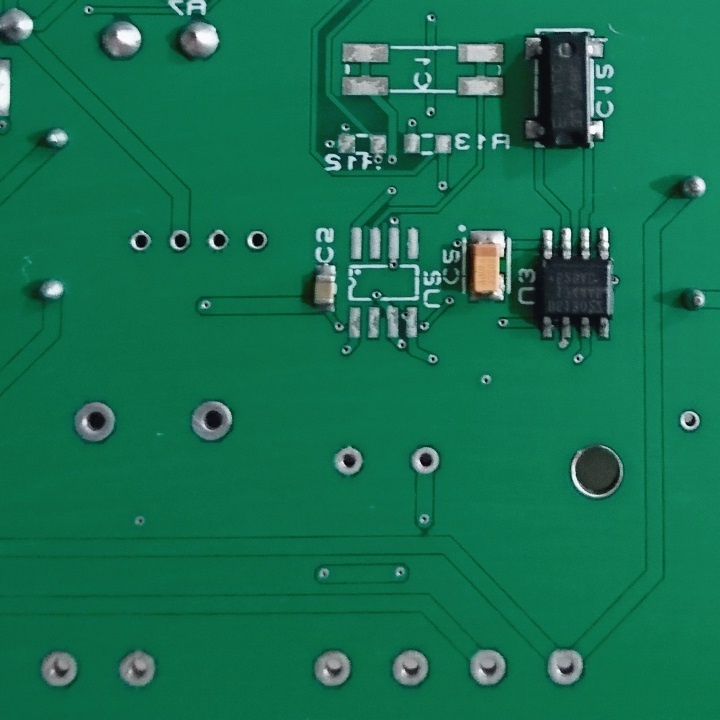F: (186, 398, 238, 446), (115, 646, 161, 695), (73, 399, 120, 446), (312, 644, 353, 695), (466, 643, 508, 689), (389, 646, 430, 692), (37, 648, 79, 692), (546, 645, 587, 689), (330, 441, 365, 480), (407, 443, 441, 477), (165, 227, 193, 259), (124, 228, 156, 255), (205, 227, 227, 257), (678, 408, 702, 434), (244, 229, 268, 255)
